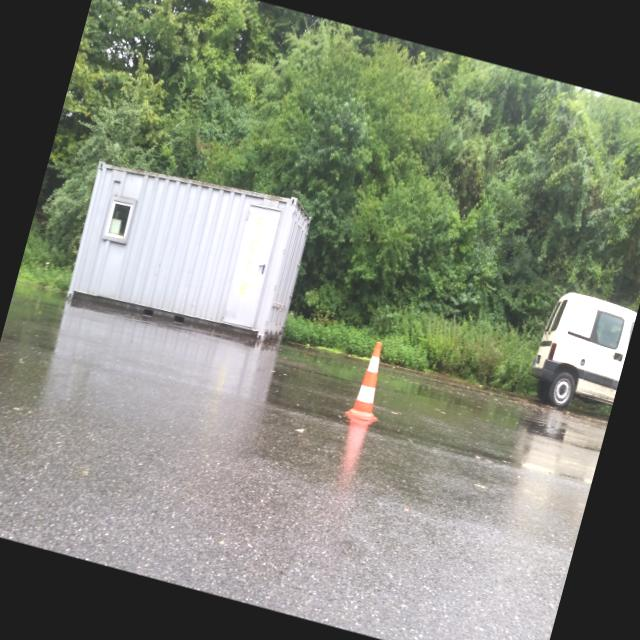large_orange_cone: (344, 338, 396, 423)
